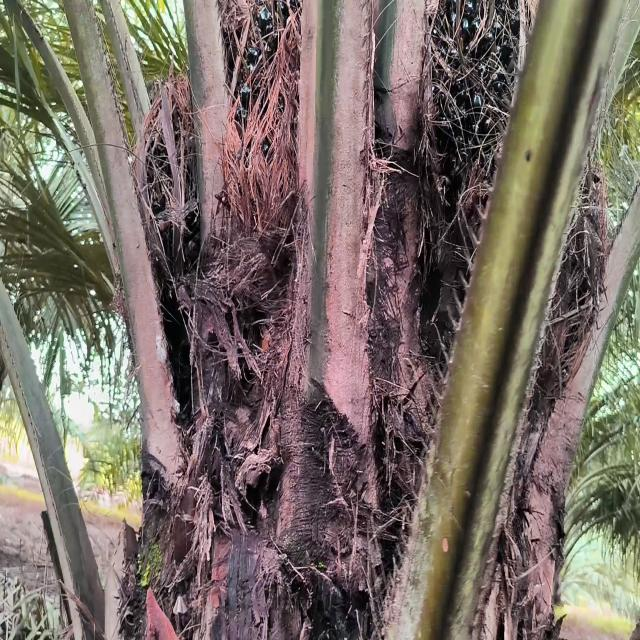palm-oil: (425, 0, 526, 211), (225, 0, 305, 245)
